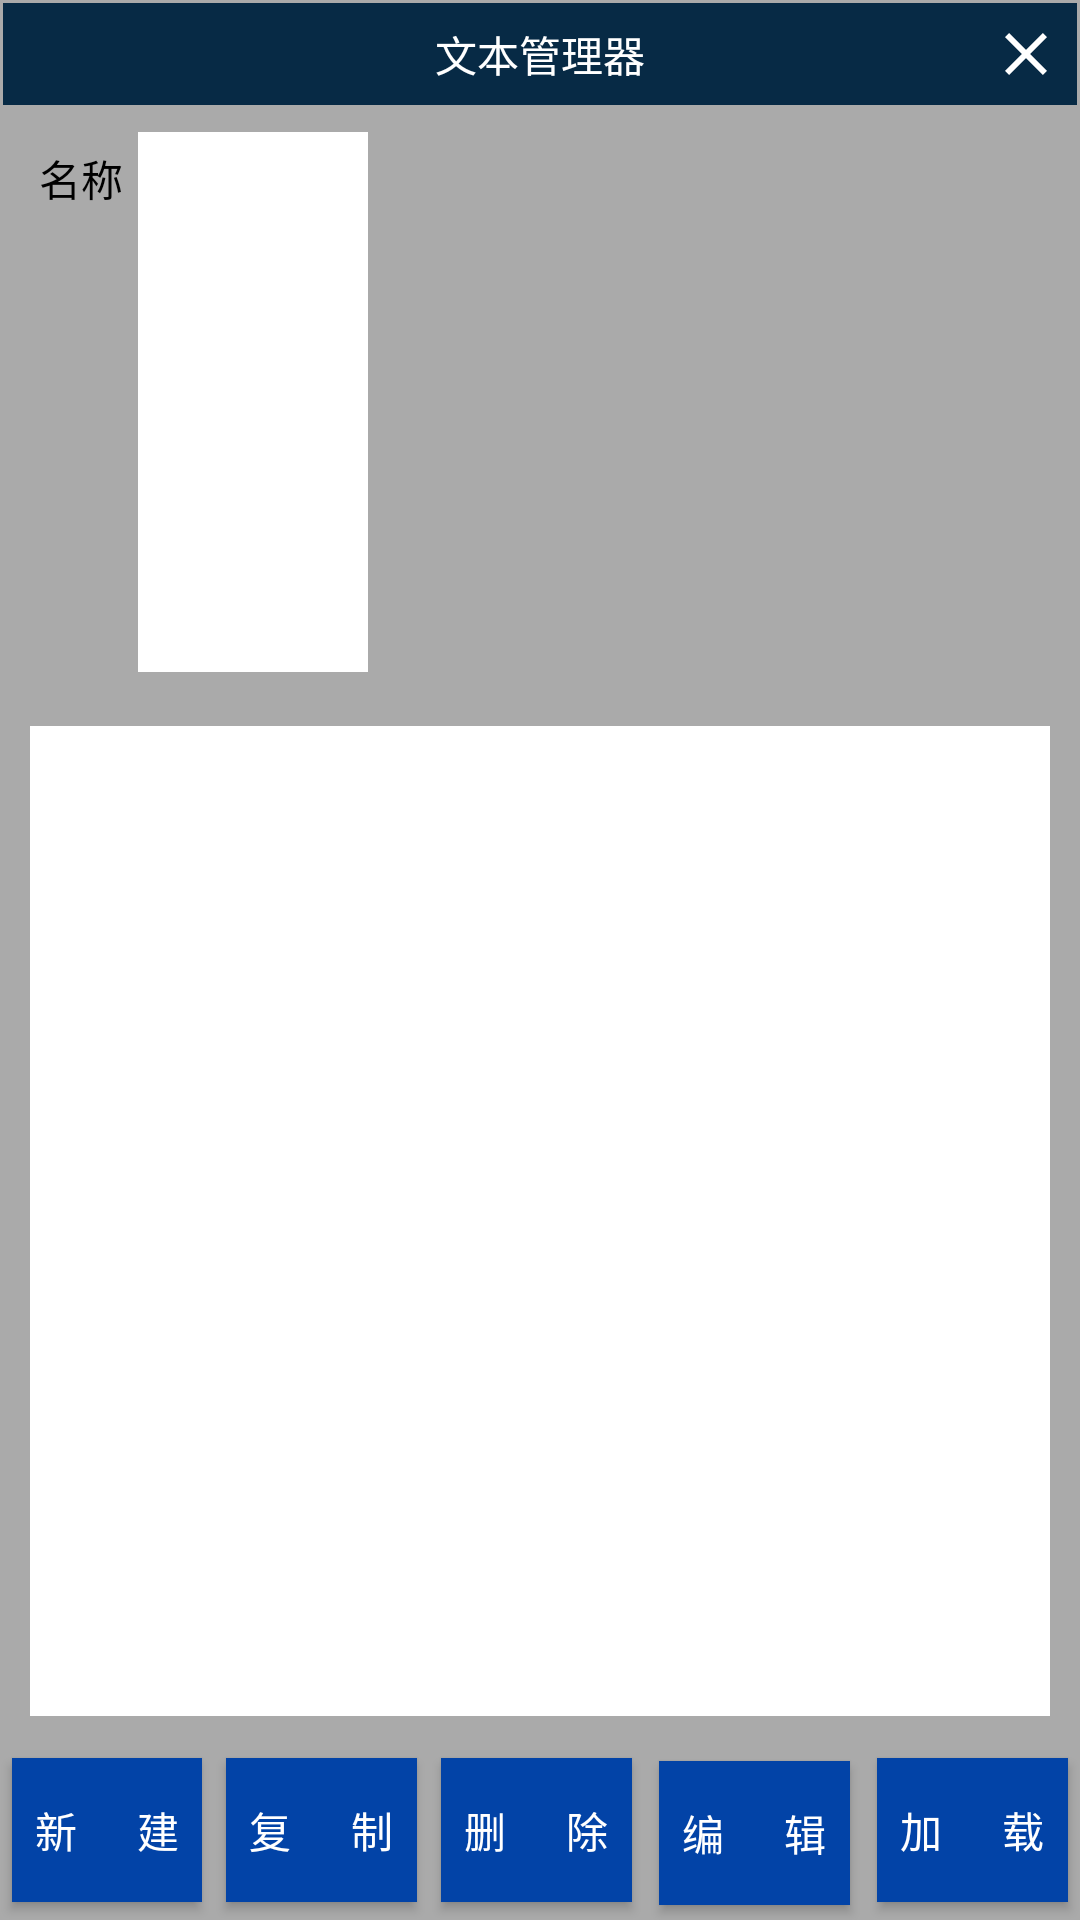

Screen size 1080 × 1920. Icon name, then its box in pixels as [x1=x1, y1=y1, x2=x2, y2=y2]:
close: [x1=1005, y1=33, x2=1047, y2=75]
